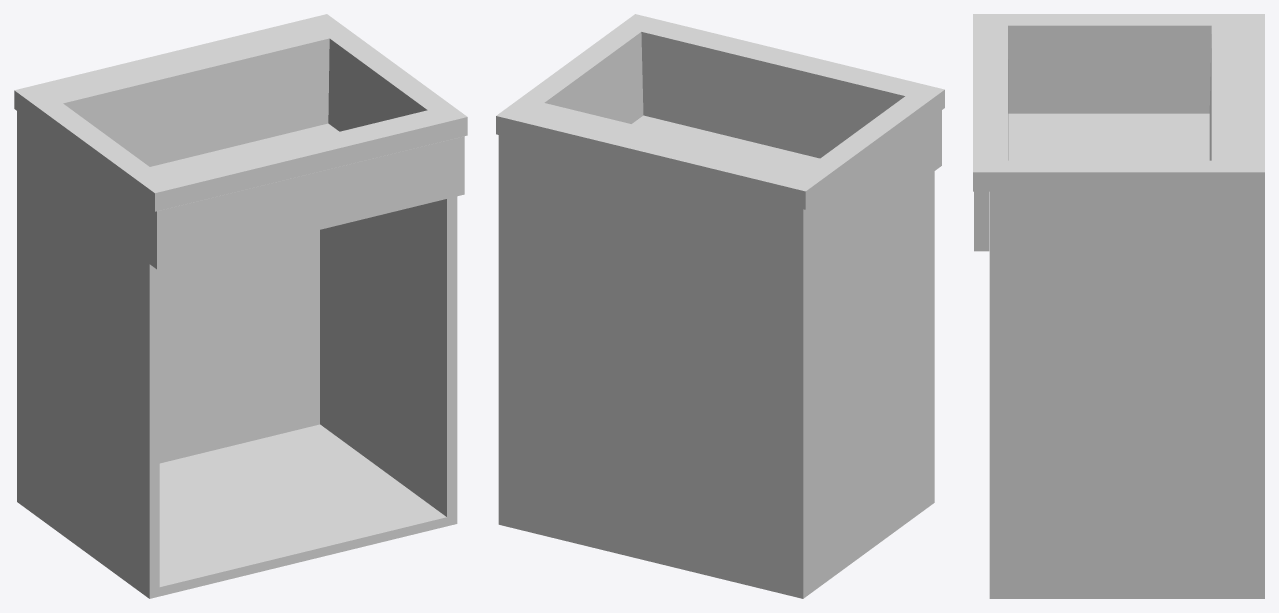
Rendered from Bathroom_C1_04.fbx.
The picture shows the model from 3 angles, left to right: view 1: azimuth 30°, elevation 25°; view 2: azimuth 150°, elevation 25°; view 3: azimuth 270°, elevation 25°; orthographic projection. The views are drawn at different scales.
Parts seen in each view (by area): view 1: Bathroom_C1_04; view 2: Bathroom_C1_04; view 3: Bathroom_C1_04.
Part boxes in pixels (x1,y1,x2,y2): Bathroom_C1_04: (14, 14, 467, 598); Bathroom_C1_04: (496, 14, 944, 598); Bathroom_C1_04: (973, 14, 1264, 598).
Size of the model in its own units: 61 by 76.82 by 47.51.
